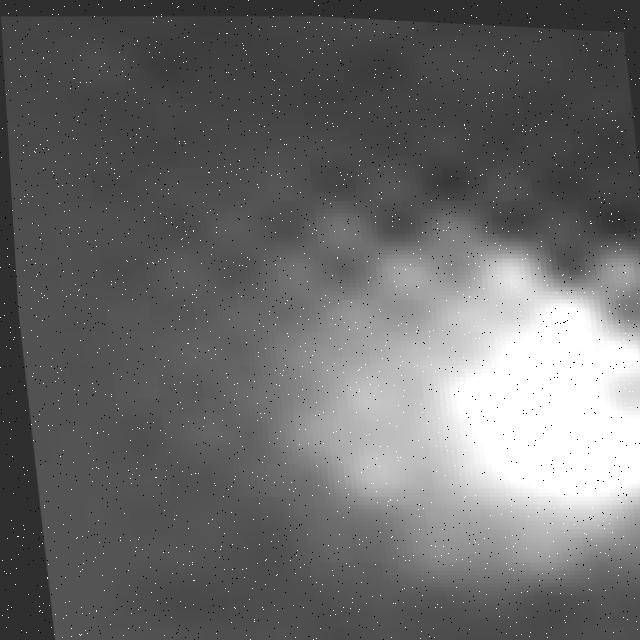person: (178, 225, 640, 629)
